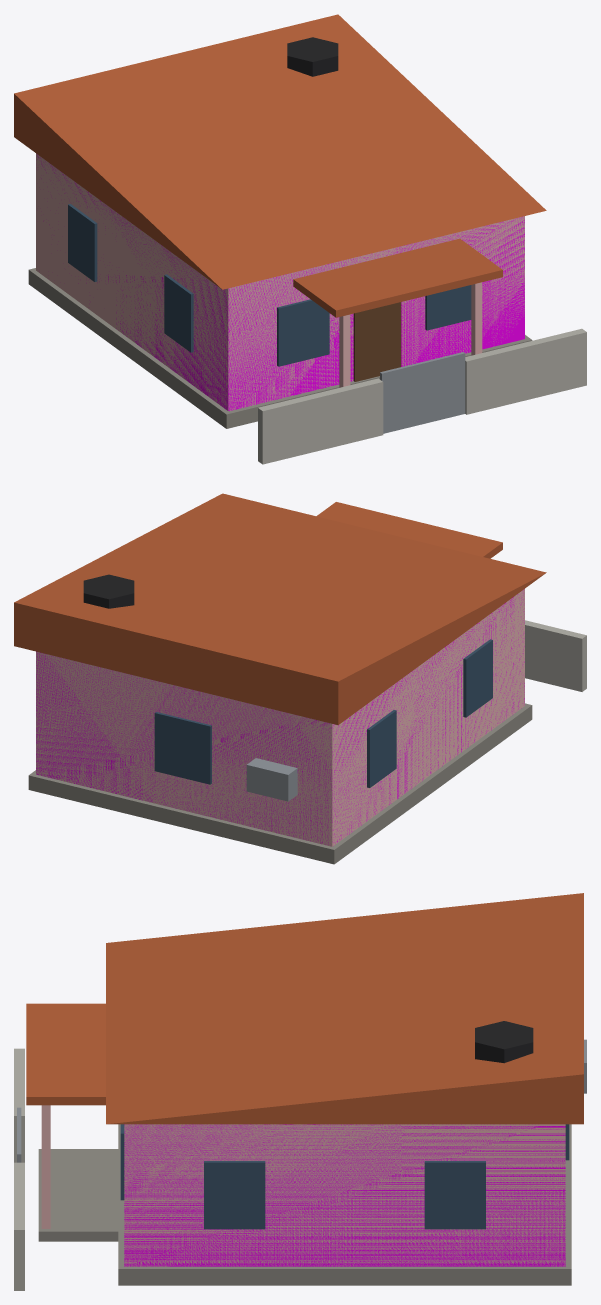
The model's file is House_1S_05.glb.
The picture shows the model from 3 angles, top to bottom: view 1: azimuth 30°, elevation 25°; view 2: azimuth 150°, elevation 25°; view 3: azimuth 270°, elevation 25°; orthographic projection. The views are drawn at different scales.
Visible parts, largest first — view 1: House_1S_05, House_1S_05_COL; view 2: House_1S_05, House_1S_05_COL; view 3: House_1S_05, House_1S_05_COL.
Boxes of the visible parts, x1,y1,x2,y2 form: House_1S_05: (14,14,586,464); House_1S_05_COL: (37,154,524,411); House_1S_05: (14,493,586,864); House_1S_05_COL: (36,590,524,844); House_1S_05: (14,893,586,1290); House_1S_05_COL: (124,1124,565,1266).
Bounding box in the file's own units: 7 × 4 × 9.35.
